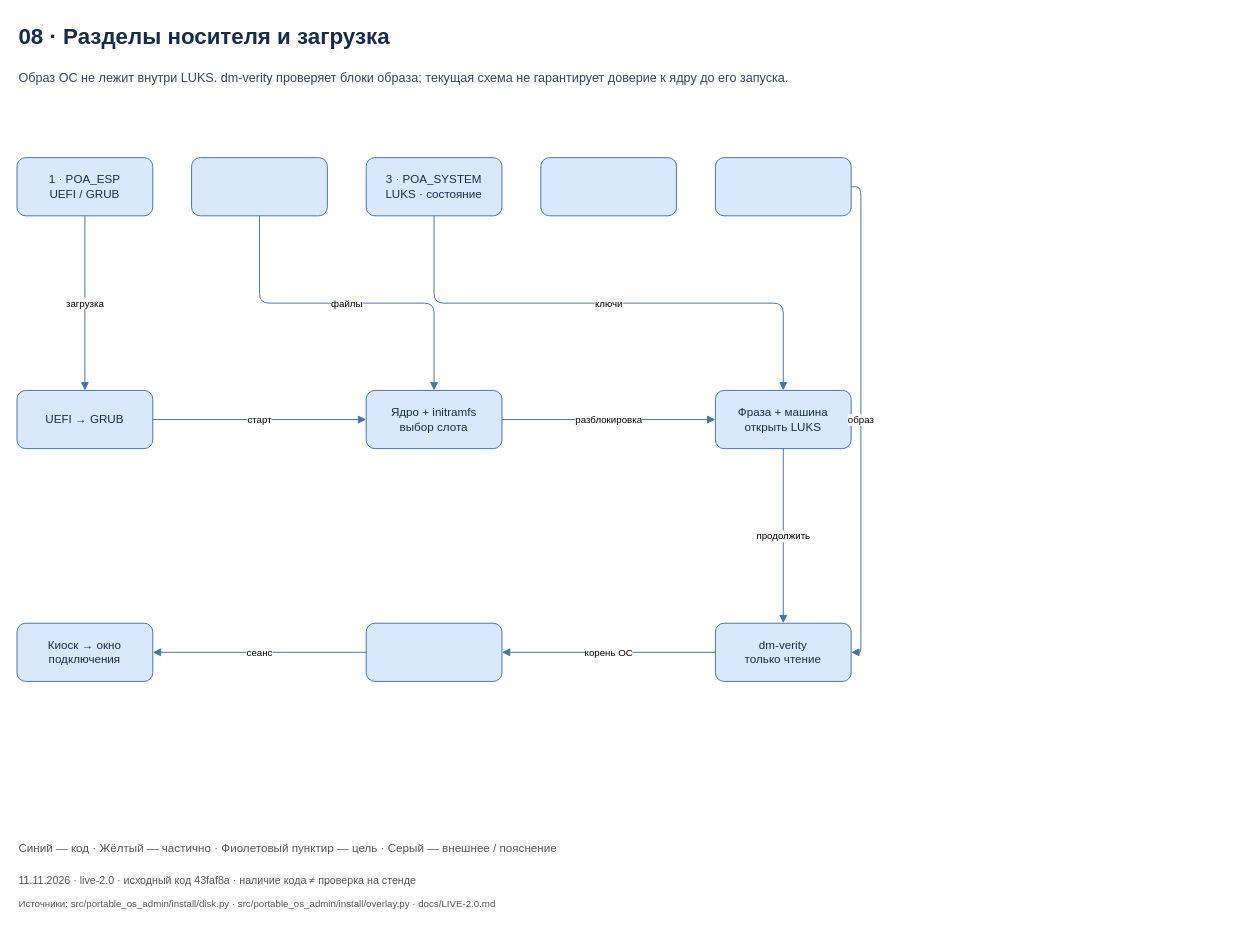
Some shapes in this 1237 by 945 pixel diagram are drawn without their labels. Here are the shapes that lost their labels. From the top down, the centre of each, then its label:
At point (259, 186): "2 · POA_BOOT ядра / initrd A/B".
At point (608, 186): "4 · POA_LOGS LUKS · журналы".
At point (782, 186): "5 · POA_IMAGES squashfs / verity".
At point (433, 651): "RAM-слой временные изменения".
